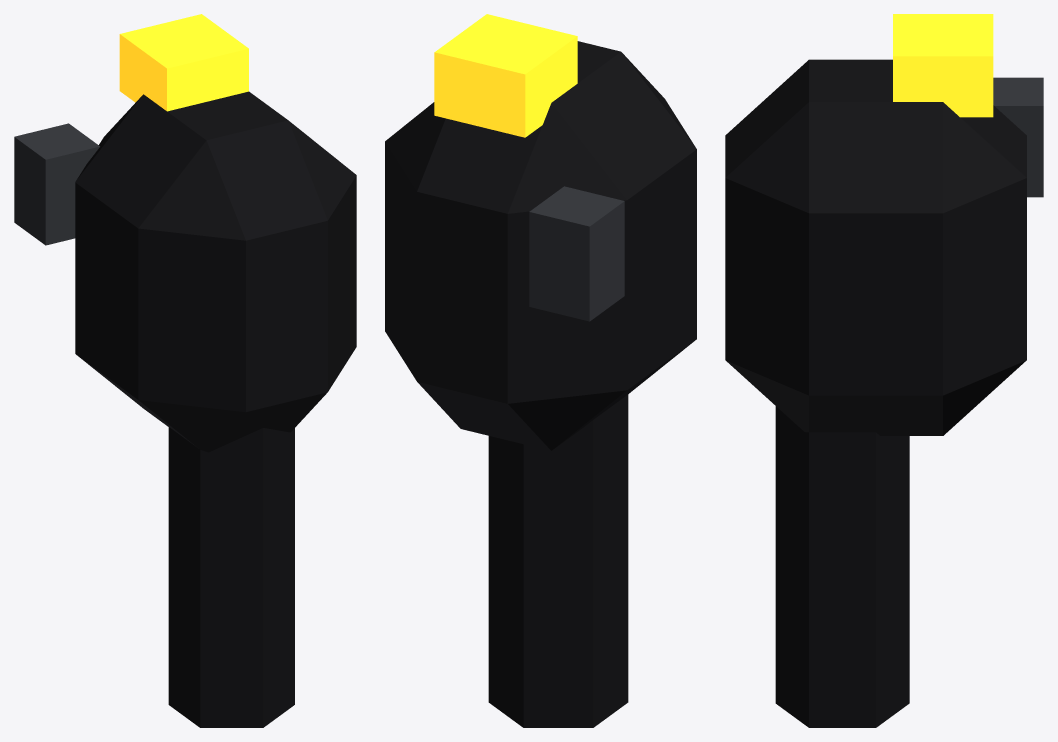
The model's file is joystick.glb.
The picture shows the model from 3 angles, left to right: view 1: azimuth 30°, elevation 25°; view 2: azimuth 150°, elevation 25°; view 3: azimuth 270°, elevation 25°; orthographic projection. The views are drawn at different scales.
Visible parts, largest first — view 1: Joystick; view 2: Joystick; view 3: Joystick.
Part boxes in pixels (left/top/right/bottom): Joystick: left=14, top=14, right=356, bottom=727; Joystick: left=385, top=14, right=696, bottom=727; Joystick: left=725, top=14, right=1043, bottom=727.
Bounding box in the file's own units: 0.085 × 0.22 × 0.095.
